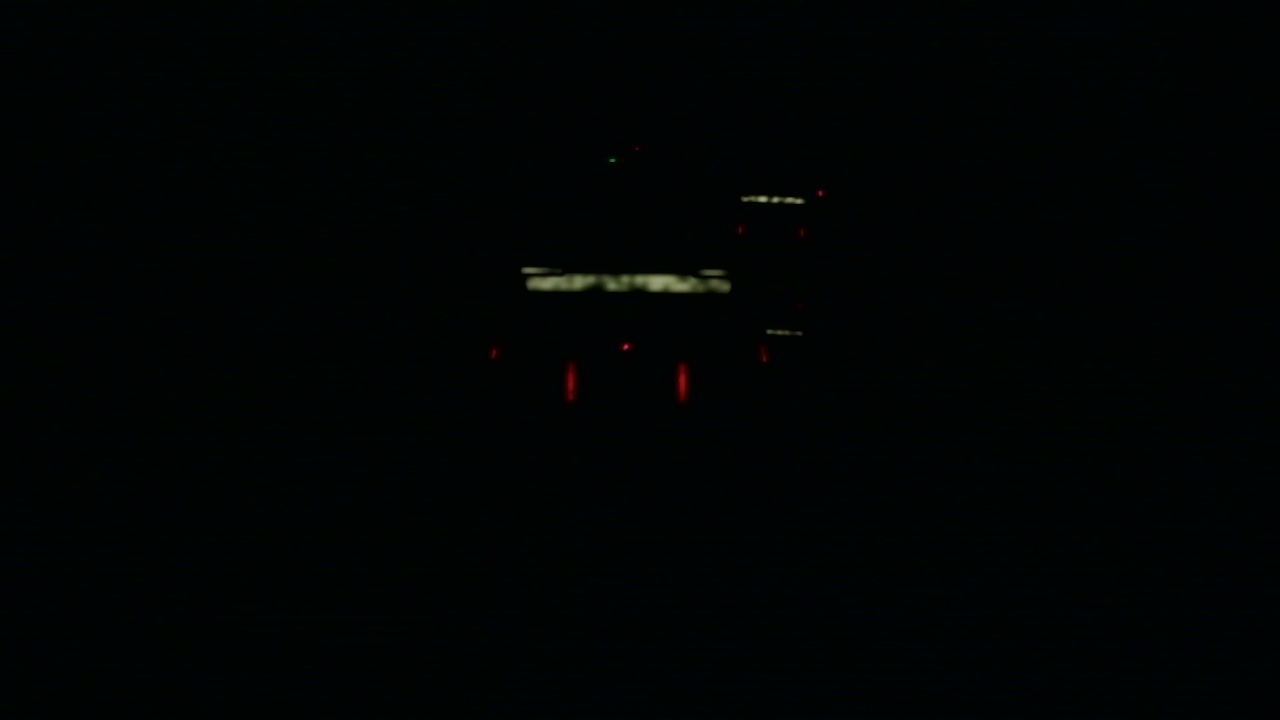lamp: (562, 361, 576, 399), (676, 359, 686, 398)
pair1: (565, 362, 688, 401)
